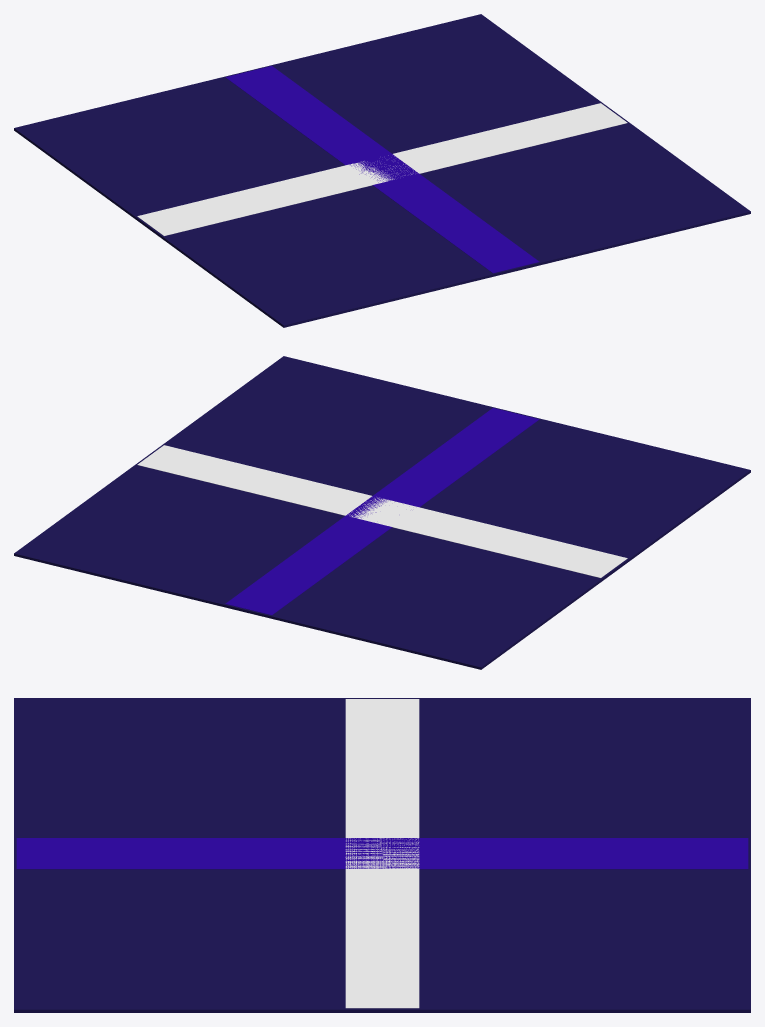
File: ground9.gltf
3 renders of one model, top to bottom at view 1: azimuth 30°, elevation 25°; view 2: azimuth 150°, elevation 25°; view 3: azimuth 270°, elevation 25°, orthographic. The views are drawn at different scales.
Parts seen in each view (by area): view 1: Cube, Cube.001, Cube.002; view 2: Cube, Cube.002, Cube.001; view 3: Cube, Cube.001, Cube.002.
Part boxes in pixels (left/top/right/bottom): Cube: left=14, top=14, right=750, bottom=327; Cube.001: left=225, top=66, right=539, bottom=273; Cube.002: left=137, top=103, right=627, bottom=235; Cube: left=14, top=356, right=750, bottom=669; Cube.002: left=137, top=445, right=627, bottom=577; Cube.001: left=225, top=408, right=539, bottom=615; Cube: left=14, top=698, right=750, bottom=1012; Cube.001: left=16, top=838, right=748, bottom=869; Cube.002: left=345, top=699, right=419, bottom=1008.
Size of the model in its own units: 20 by 0.12 by 20.
